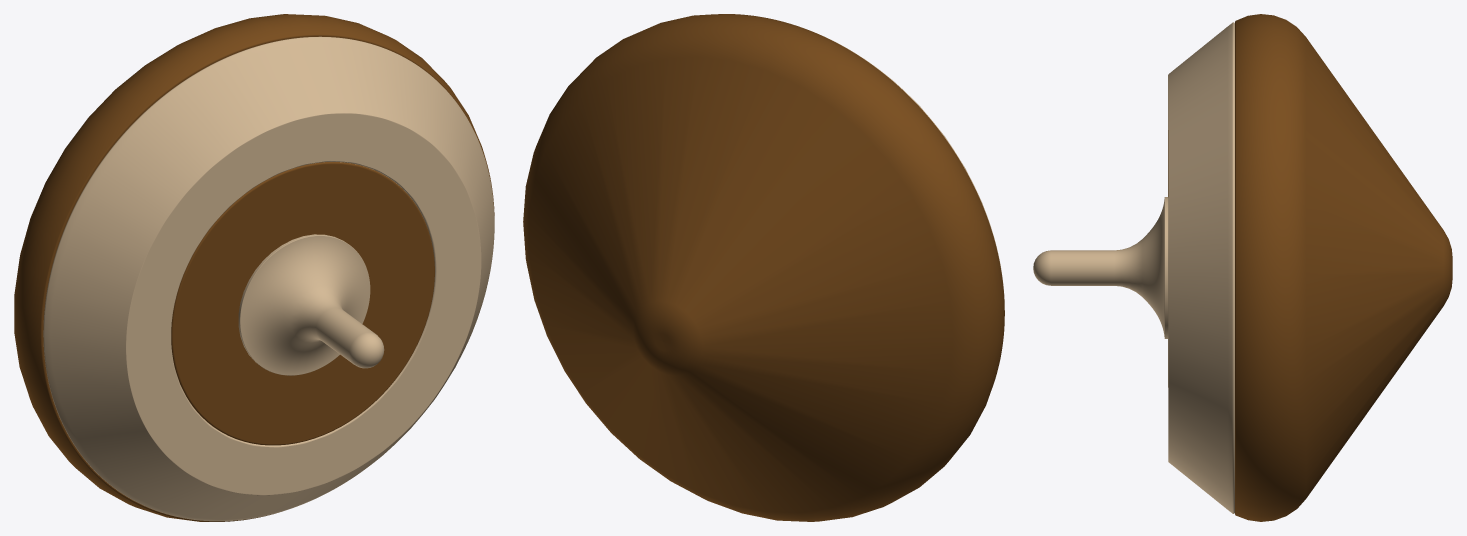
The model's file is Kitchentimer.obj.
3 views of the same model, side by side, from view 1: azimuth 30°, elevation 25°; view 2: azimuth 150°, elevation 25°; view 3: azimuth 270°, elevation 25° (orthographic). The views are drawn at different scales.
Visible parts, largest first — view 1: 본체7, 본체8, 본체6, 본체9; view 2: 본체6; view 3: 본체6, 본체7, 본체9.
Boxes of the visible parts, left/top/right/bottom form: 본체7: left=43, top=36, right=494, bottom=521; 본체8: left=171, top=162, right=434, bottom=445; 본체6: left=14, top=14, right=494, bottom=521; 본체9: left=238, top=234, right=384, bottom=375; 본체6: left=523, top=14, right=1004, bottom=521; 본체6: left=1235, top=14, right=1452, bottom=521; 본체7: left=1168, top=22, right=1234, bottom=513; 본체9: left=1033, top=197, right=1168, bottom=338.
Bounding box in the file's own units: 14.29 × 14.3 × 11.81.
